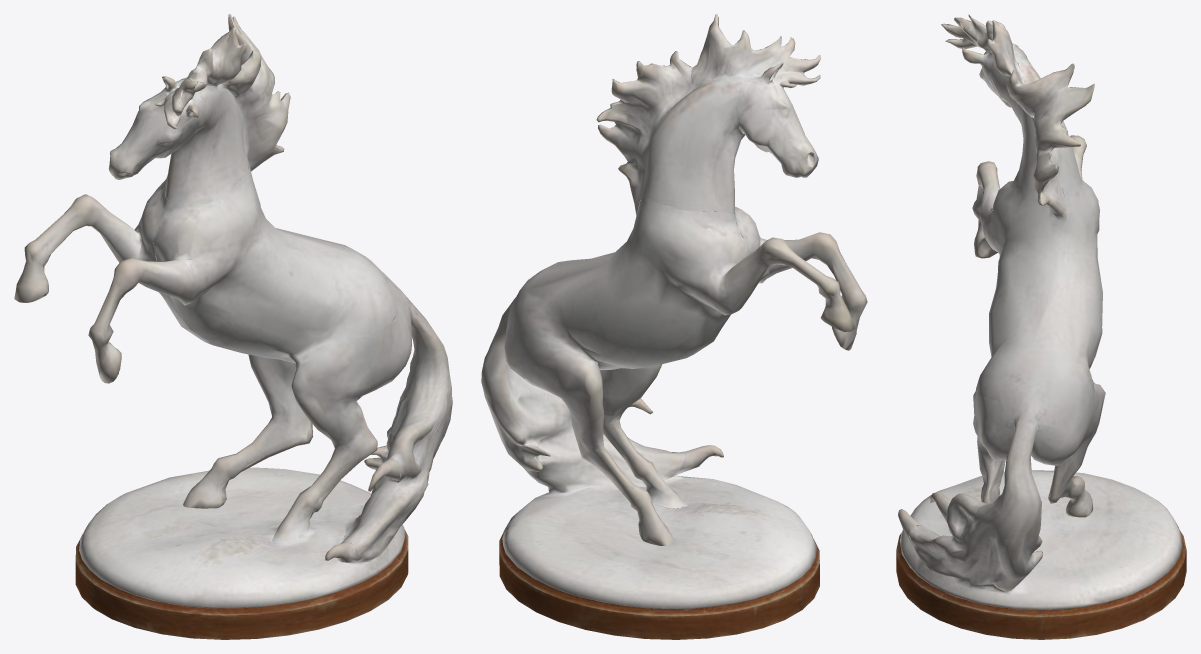
File: ph_horse_statue_01.glb
The picture shows the model from 3 angles, left to right: view 1: azimuth 30°, elevation 25°; view 2: azimuth 150°, elevation 25°; view 3: azimuth 270°, elevation 25°; orthographic projection. The views are drawn at different scales.
Parts seen in each view (by area): view 1: horse_statue_01; view 2: horse_statue_01; view 3: horse_statue_01.
Part boxes in pixels (left/top/right/bottom): horse_statue_01: left=14, top=14, right=452, bottom=639; horse_statue_01: left=481, top=14, right=867, bottom=639; horse_statue_01: left=896, top=14, right=1186, bottom=639.
Bounding box in the file's own units: 0.1637 × 0.2199 × 0.1078.
2 materials, 2 textured.
